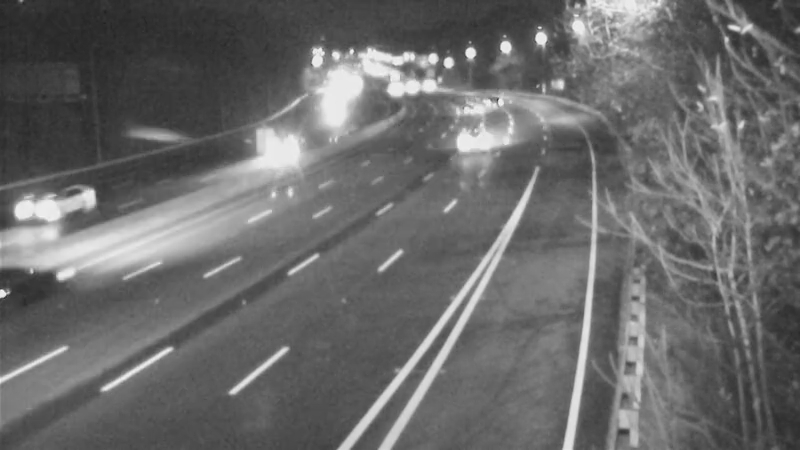vehicle: (246, 112, 326, 192), (1, 170, 80, 250), (1, 252, 68, 332), (471, 75, 521, 125), (443, 81, 493, 131), (449, 109, 499, 159)
